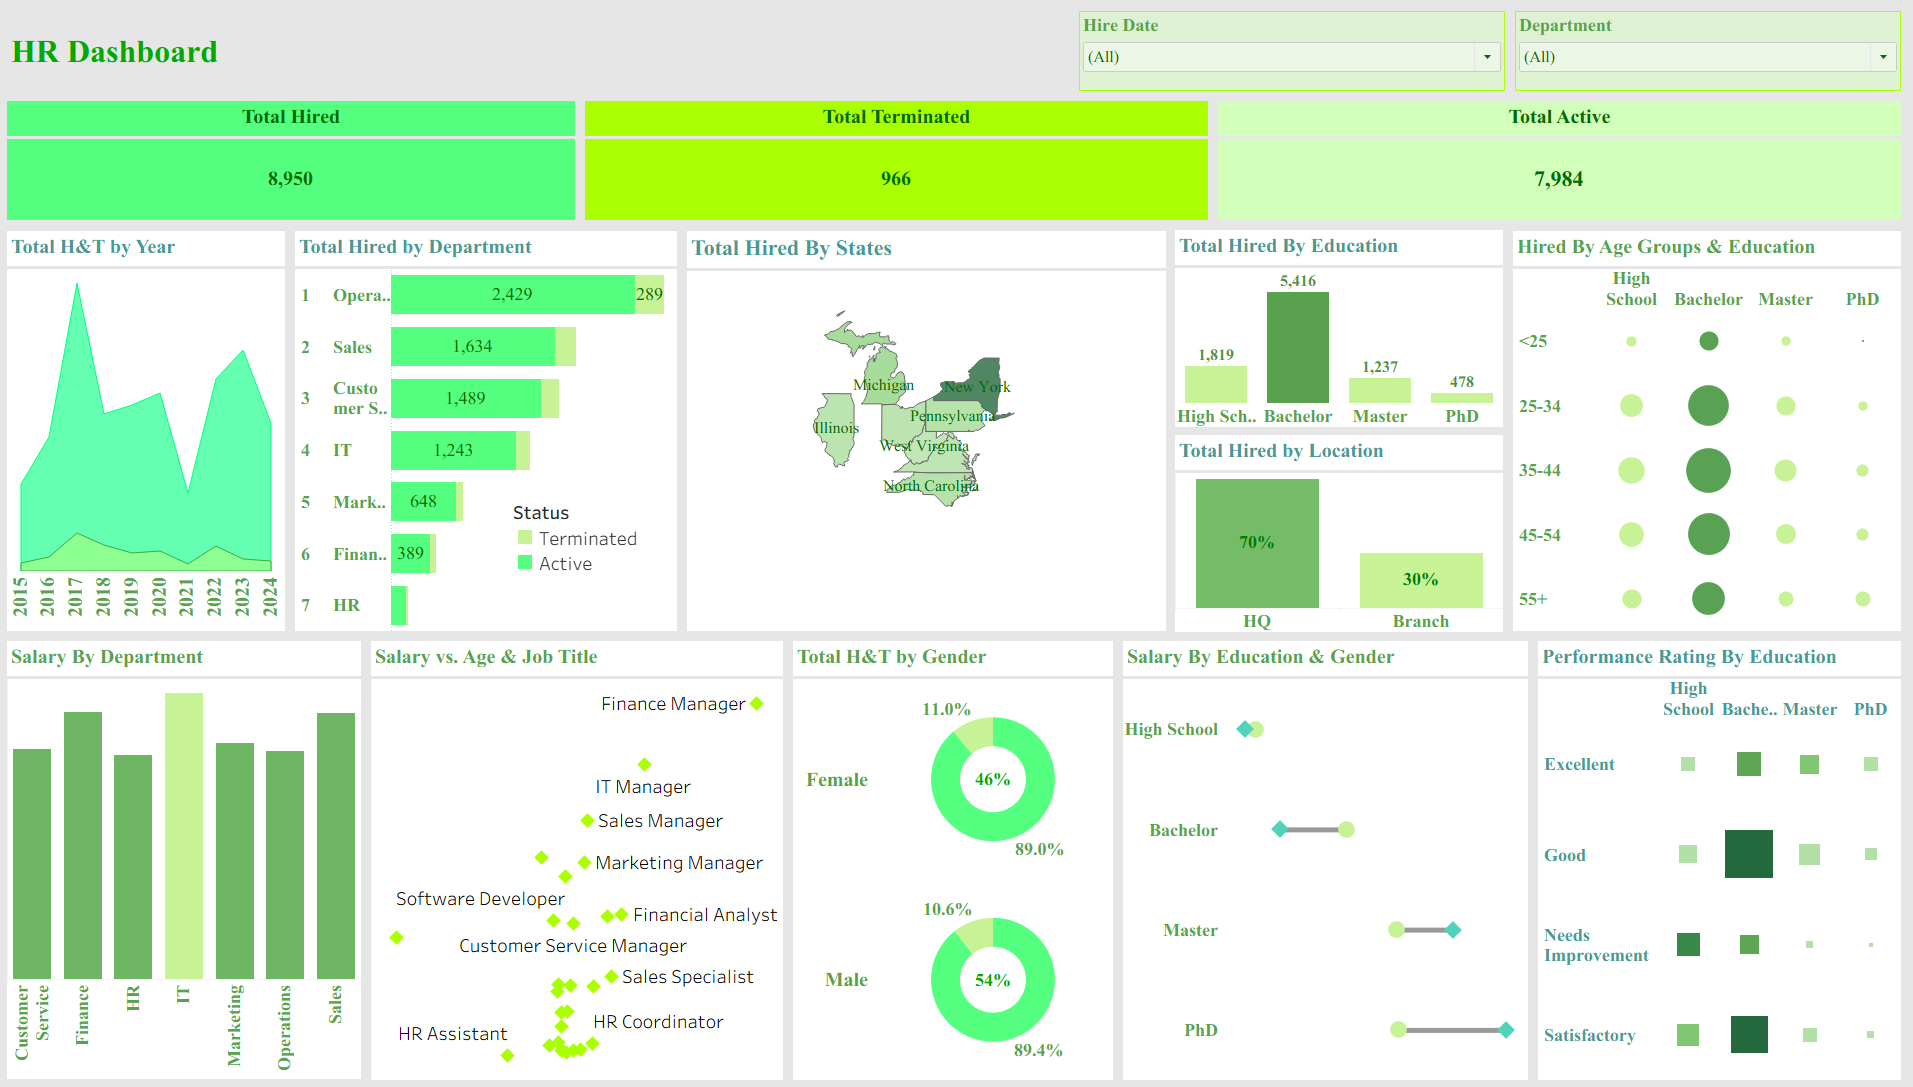

Layout of this report page (visuals, bound fields, positions):
{"tool":"tableau","page":{"name":"Final Dashboard","canvas":[1000,1000],"units":"permille","ordinal":0},"visuals":[{"type":"text","box":[5,9.2,557.6,81.9]},{"type":"filter","title":"Total Active","param":"[federated.00w3u4x1qosrdi1bc17681affyqj].[yr:Hiredate:ok]","box":[562.6,9.2,226.8,81.9]},{"type":"filter","title":"Salary By Department","param":"[federated.00w3u4x1qosrdi1bc17681affyqj].[none:Department:nk]","box":[789.3,9.2,205.7,81.9]},{"type":"worksheet","title":"Total Hired","mark":"Automatic","box":[5,91.2,300.4,117.8]},{"type":"worksheet","title":"Total Terminated","mark":"Automatic","box":[305.4,91.2,329.2,117.8]},{"type":"worksheet","title":"Total Active","mark":"Automatic","box":[634.6,91.2,360.5,117.8]},{"type":"worksheet","title":"Total H&T by Year","mark":"Area","rows":["Calculation_0702331620343808","Calculation_0702331621548034"],"cols":["Hiredate"],"box":[5,209,149.7,373]},{"type":"worksheet","title":"Total Hired by Department","mark":"Automatic","rows":["Calculation_0702331627003908","Department"],"cols":["Calculation_0702331620343808"],"box":[154.7,209,204.1,373]},{"type":"worksheet","title":"Total Hired By States","mark":"Automatic","box":[358.8,209,254.3,373]},{"type":"worksheet","title":"Total Hired By Education","mark":"Automatic","rows":["Calculation_0702331620343808"],"cols":["Education Level"],"box":[613.1,209,174.8,186.5]},{"type":"worksheet","title":"Hired By Age Groups & Education","mark":"Shape","rows":["Calculation_0702331650539531"],"cols":["Education Level"],"box":[787.9,209,207.1,373]},{"type":"worksheet","title":"Total Hired by Location","mark":"Automatic","rows":["Calculation_0702331620343808"],"cols":["Calculation_0702331633905670"],"box":[613.1,395.5,174.8,186.5]},{"type":"legend","title":"Total Hired by Department","param":"[federated.00w3u4x1qosrdi1bc17681affyqj].[none:Calculation_0702331627712517:nk]","box":[270.6,457.3,88.5,87.8]},{"type":"worksheet","title":"Salary By Department","mark":"Automatic","rows":["Salary"],"cols":["Department"],"box":[5,582,189.4,408.8]},{"type":"worksheet","title":"Salary vs. Age & Job Title","mark":"Automatic","rows":["Salary"],"cols":["Calculation_0702331650043914"],"box":[194.4,582,219.6,408.8]},{"type":"worksheet","title":"Total H&T by Gender","mark":"Pie","rows":["Gender"],"cols":["Calculation_0702331644305416","Calculation_0702331644305416"],"box":[414,582,171.4,408.8]},{"type":"worksheet","title":"Salary By Education & Gender","mark":"Automatic","rows":["Education Level"],"cols":["Salary","Salary"],"box":[585.4,582,215.6,408.8]},{"type":"worksheet","title":"Performance Rating By Education","mark":"Automatic","rows":["Performance Rating"],"cols":["Education Level"],"box":[801,582,194,408.8]}]}

Visuals, with their boxes on the dashboard's canvas, which has no fixed pixel size, in thousandths of its width and height (x1, y1, x2, y2). These are canvas units, not pixel positions in the 1913x1087 screenshot, which may show the page scaled, cropped or inside an application window:
text: bbox(5, 9, 563, 91)
"Total Active" filter: bbox(563, 9, 789, 91)
"Salary By Department" filter: bbox(789, 9, 995, 91)
"Total Hired" worksheet: bbox(5, 91, 305, 209)
"Total Terminated" worksheet: bbox(305, 91, 635, 209)
"Total Active" worksheet: bbox(635, 91, 995, 209)
"Total H&T by Year" worksheet (Area marks): bbox(5, 209, 155, 582)
"Total Hired by Department" worksheet: bbox(155, 209, 359, 582)
"Total Hired By States" worksheet: bbox(359, 209, 613, 582)
"Total Hired By Education" worksheet: bbox(613, 209, 788, 396)
"Hired By Age Groups & Education" worksheet (Shape marks): bbox(788, 209, 995, 582)
"Total Hired by Location" worksheet: bbox(613, 396, 788, 582)
"Total Hired by Department" legend: bbox(271, 457, 359, 545)
"Salary By Department" worksheet: bbox(5, 582, 194, 991)
"Salary vs. Age & Job Title" worksheet: bbox(194, 582, 414, 991)
"Total H&T by Gender" worksheet (Pie marks): bbox(414, 582, 585, 991)
"Salary By Education & Gender" worksheet: bbox(585, 582, 801, 991)
"Performance Rating By Education" worksheet: bbox(801, 582, 995, 991)
